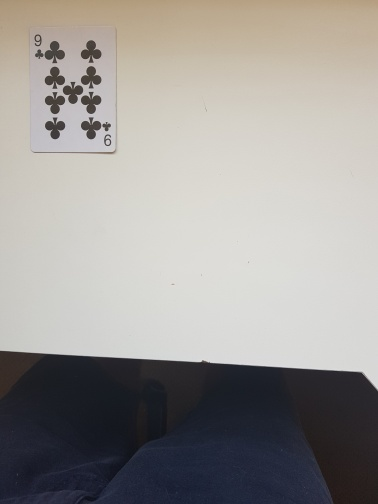nine: (26, 25, 118, 155)
